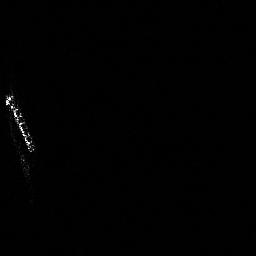ship: (1, 90, 40, 157)
